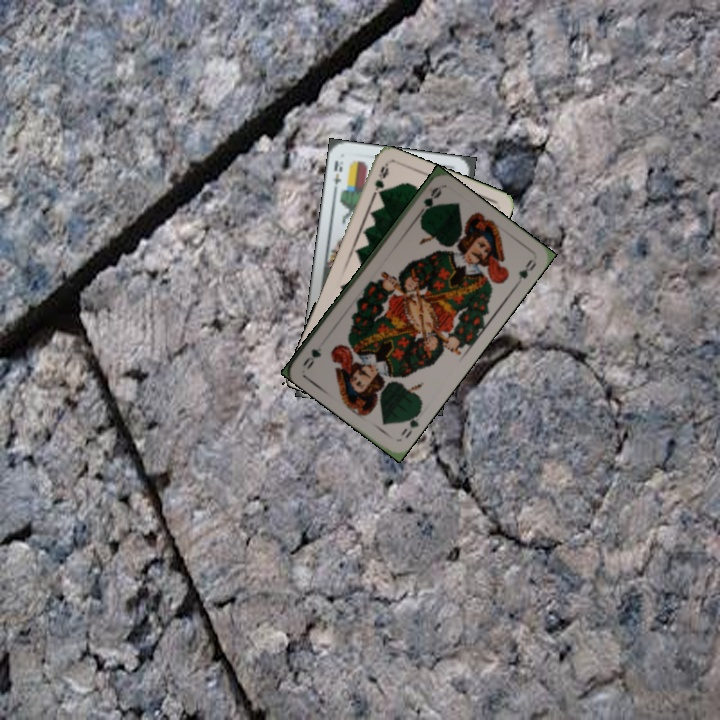EK: (328, 156, 346, 195)
G9: (368, 160, 391, 199)
GO: (413, 184, 444, 222), (397, 407, 423, 441)
